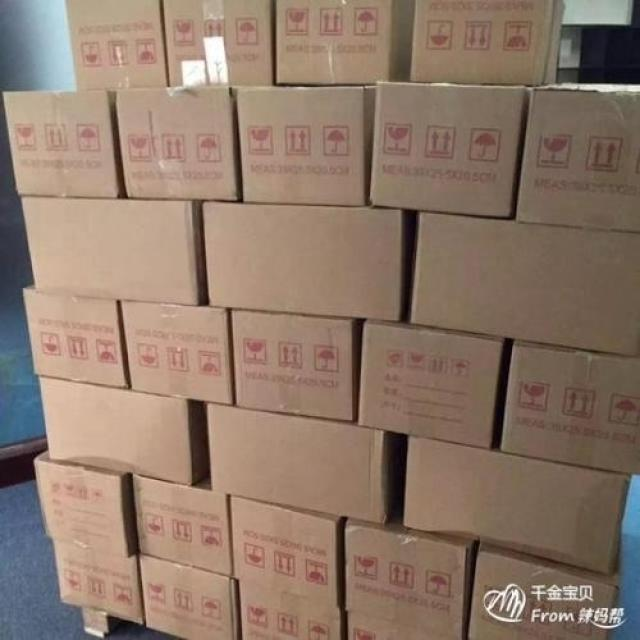box: (410, 210, 640, 357), (403, 436, 632, 575), (201, 200, 420, 323), (209, 402, 403, 524), (369, 81, 530, 218), (20, 197, 209, 306), (356, 319, 506, 449), (500, 339, 640, 475), (38, 376, 210, 485), (516, 82, 640, 233), (346, 504, 481, 639), (237, 83, 378, 205), (466, 543, 622, 639), (232, 308, 365, 420), (115, 86, 243, 201), (232, 495, 349, 608), (4, 91, 127, 197), (410, 0, 566, 83), (120, 300, 236, 406), (23, 284, 131, 388), (35, 449, 138, 557), (273, 0, 399, 84), (132, 475, 233, 577), (161, 0, 273, 86), (64, 0, 169, 90), (138, 553, 242, 639), (52, 540, 145, 625), (238, 582, 348, 639), (346, 614, 466, 639)
